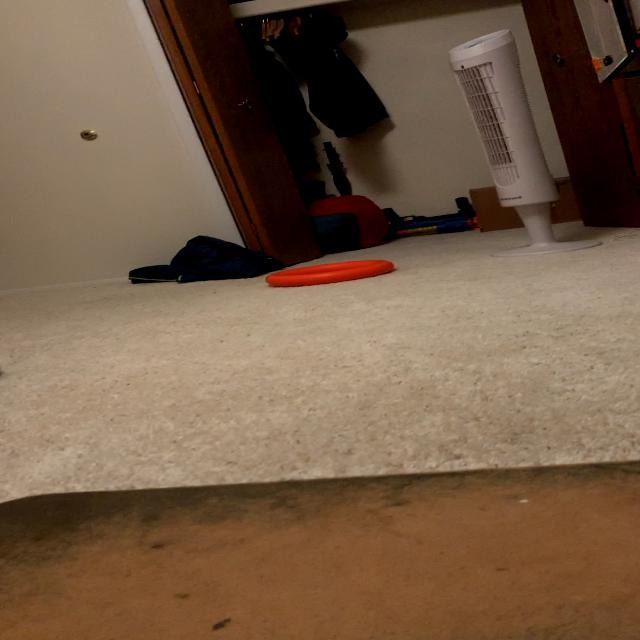notes: (272, 262, 394, 287)
